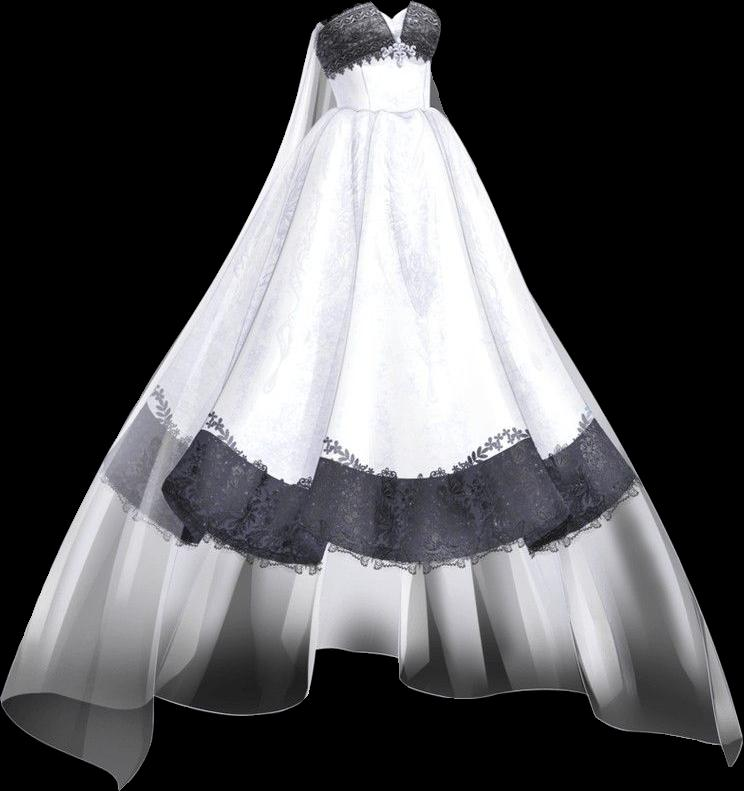Bodice: (312, 3, 440, 112)
Hemline: (87, 467, 642, 576)
Neckline: (310, 0, 441, 37)
Skirt: (94, 102, 640, 571)
Waistline: (336, 98, 431, 115)
